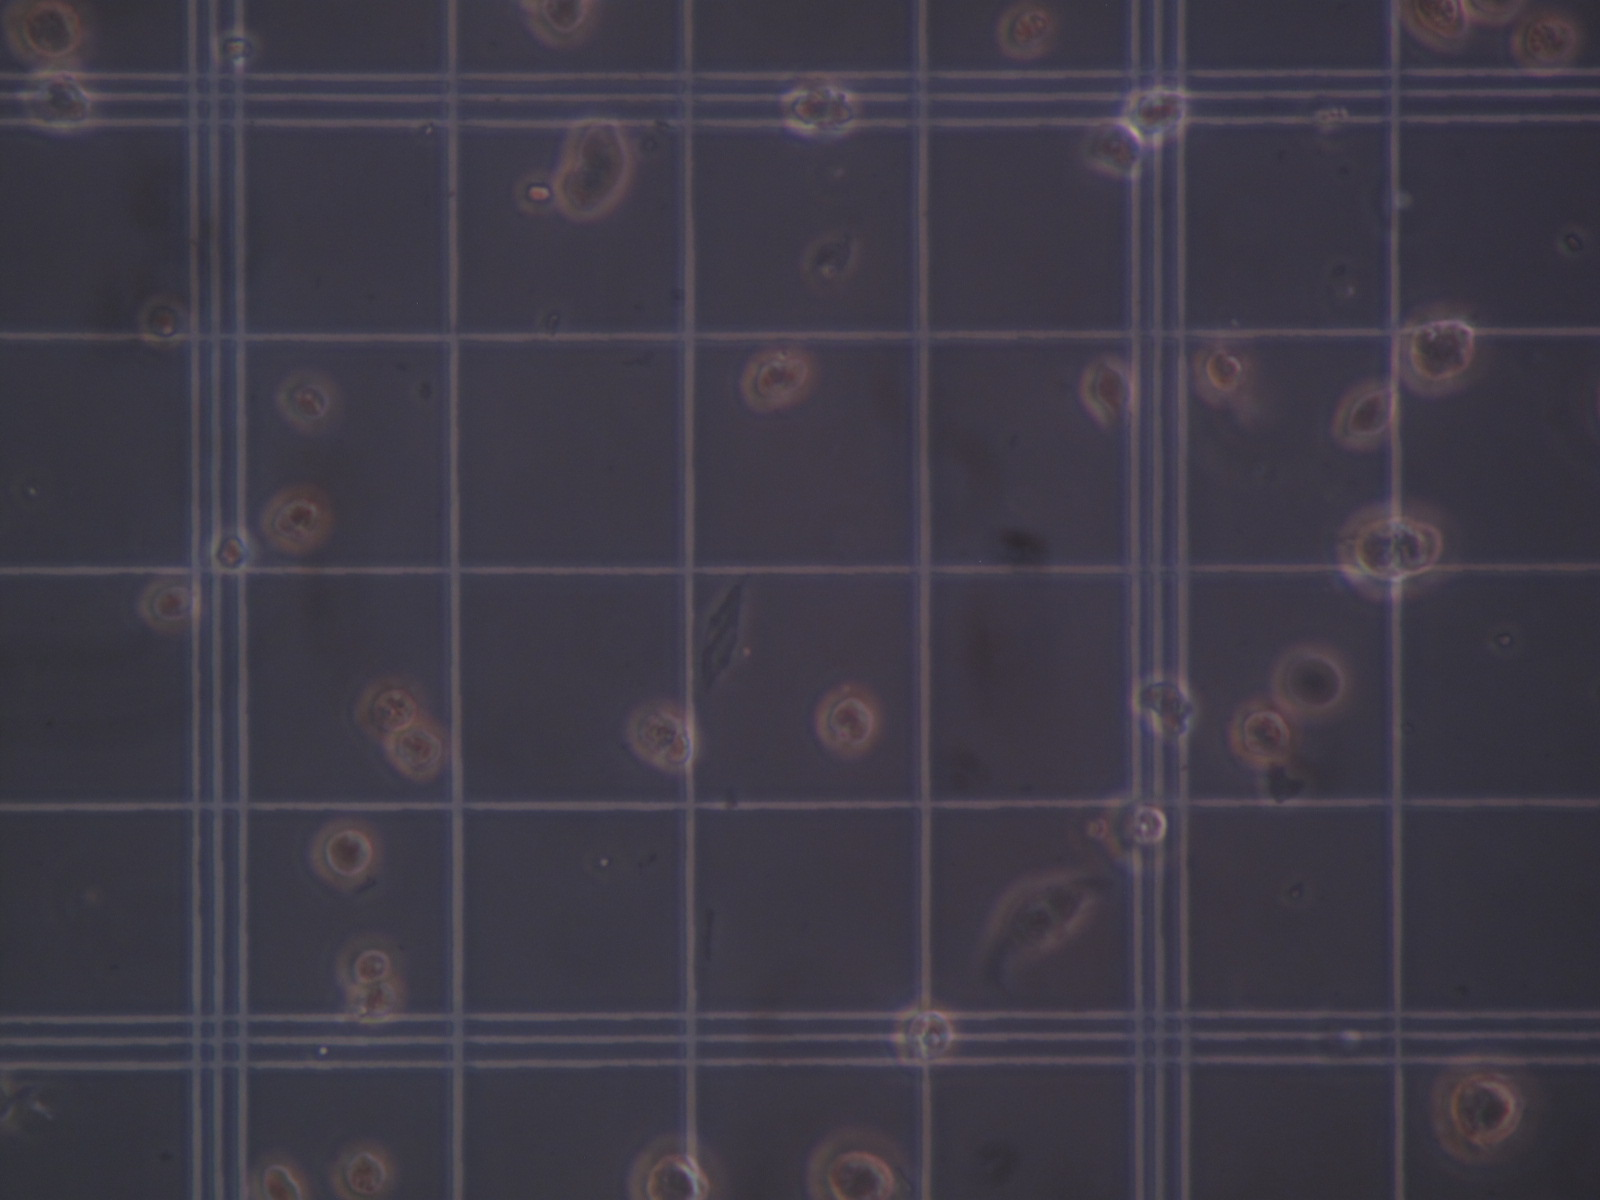hemo: (1334, 495, 1445, 599), (1432, 1055, 1528, 1163), (1393, 301, 1490, 395), (556, 118, 630, 223), (1096, 782, 1170, 876), (806, 1129, 905, 1200), (627, 1134, 723, 1200), (1272, 645, 1351, 717), (309, 816, 386, 887), (4, 1, 84, 64), (813, 682, 883, 754), (740, 350, 815, 416), (1329, 379, 1398, 449), (1225, 698, 1293, 769), (348, 673, 418, 741), (19, 71, 94, 134), (263, 488, 333, 556), (1081, 350, 1140, 429), (1121, 86, 1194, 149), (1081, 117, 1146, 182), (1133, 673, 1197, 739), (891, 1001, 955, 1066), (626, 703, 692, 766), (1511, 16, 1577, 78), (1395, 1, 1470, 54), (268, 369, 333, 431), (336, 932, 399, 989), (784, 86, 855, 136), (386, 720, 445, 779), (139, 579, 202, 633), (1191, 342, 1243, 406), (995, 5, 1054, 61), (522, 1, 595, 45), (334, 1143, 391, 1199), (249, 1150, 309, 1200), (137, 294, 190, 347), (210, 524, 257, 574), (350, 983, 401, 1022)
